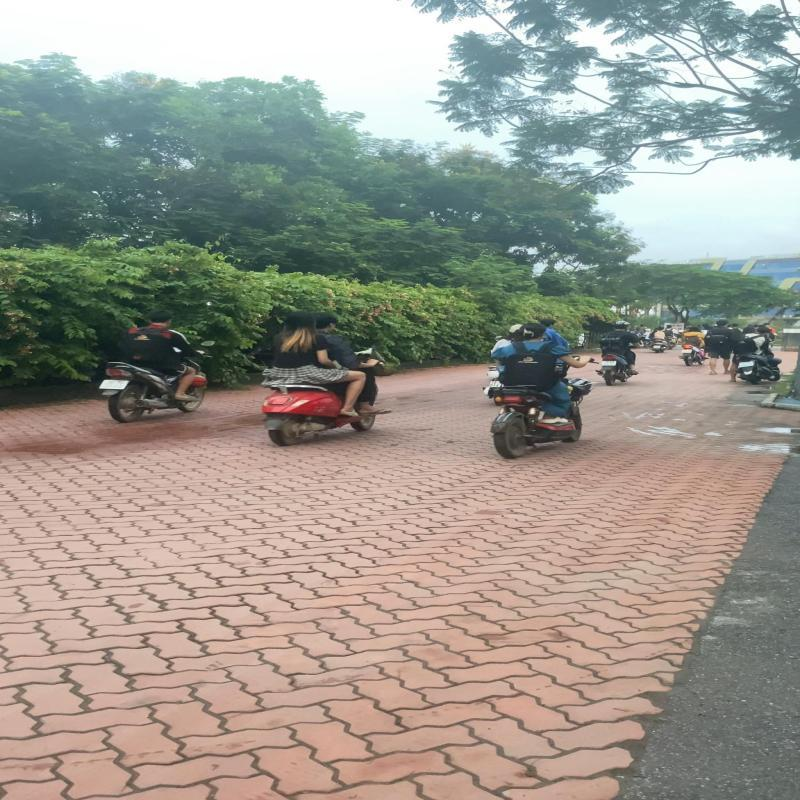licenseplate: (99, 379, 128, 390)
motorcyclist: (96, 310, 218, 422)
nohelmet: (148, 311, 173, 323)
